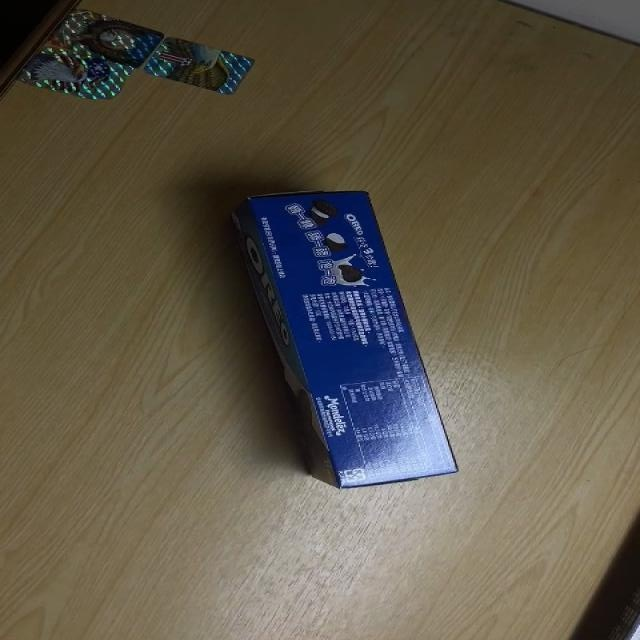Oreo: (225, 189, 459, 489)
